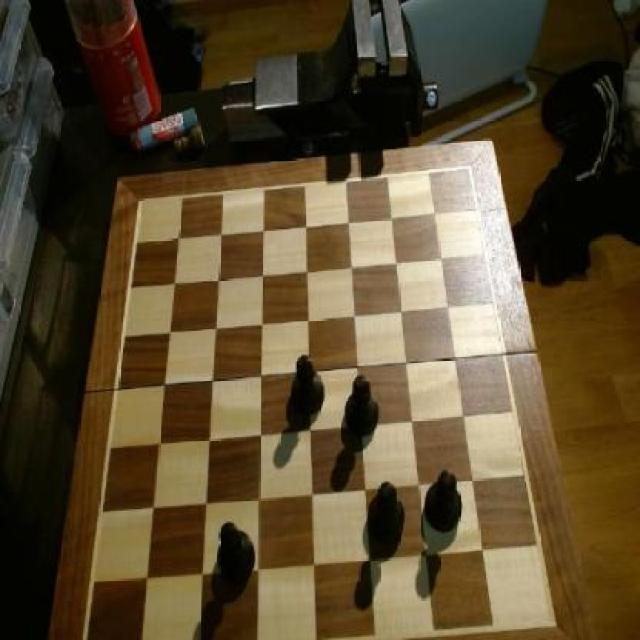black-knight: (216, 520, 258, 587), (368, 480, 405, 551), (426, 471, 463, 538), (345, 375, 380, 443), (290, 355, 326, 418)
